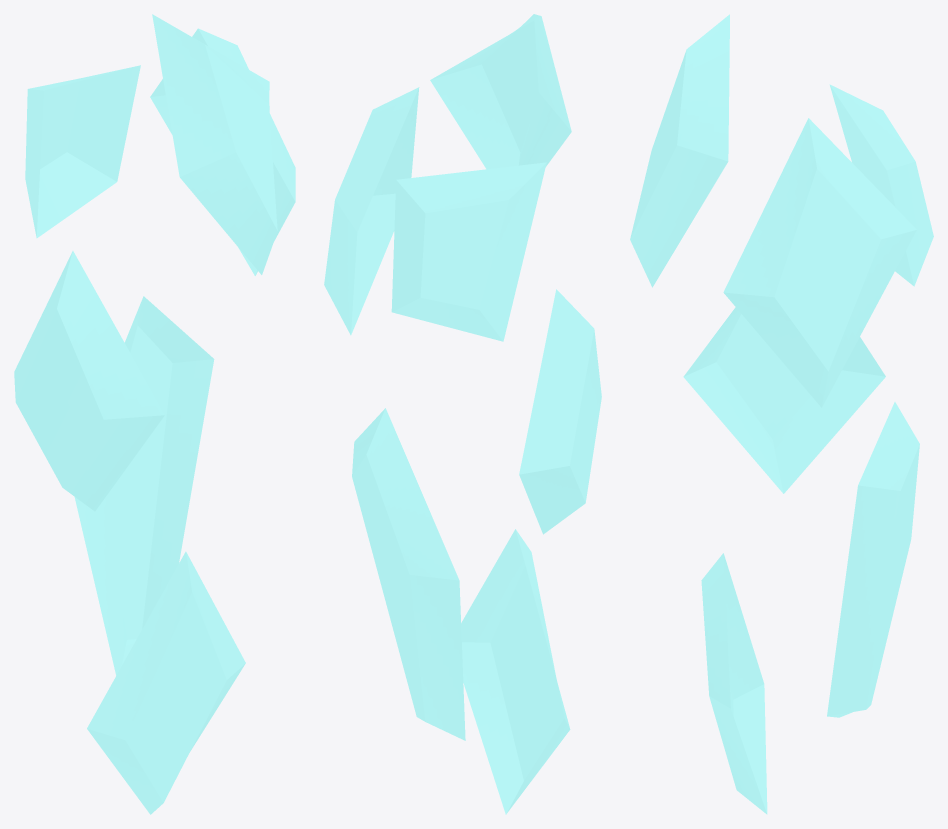
The model's file is FloatingCylinder_1_test.fbx.
3 views of the same model, side by side, from view 1: azimuth 30°, elevation 25°; view 2: azimuth 150°, elevation 25°; view 3: azimuth 270°, elevation 25° (orthographic). The views are drawn at different scales.
Visible parts, largest first — view 1: Plane.006, Plane.001, Plane.005, Plane.003, Plane.004, Plane.002; view 2: Plane.004, Plane.006, Plane.005, Plane.003, Plane.001, Plane.002; view 3: Plane.002, Plane.001, Plane.006, Plane.003, Plane.005, Plane.004.
Boxes of the visible parts, bbox=[...] form: Plane.006: bbox=[74, 296, 214, 675]; Plane.001: bbox=[14, 251, 164, 511]; Plane.005: bbox=[87, 551, 245, 814]; Plane.003: bbox=[152, 14, 277, 274]; Plane.004: bbox=[25, 65, 140, 238]; Plane.002: bbox=[150, 28, 295, 275]; Plane.004: bbox=[391, 162, 546, 341]; Plane.006: bbox=[352, 408, 465, 740]; Plane.005: bbox=[461, 529, 570, 814]; Plane.003: bbox=[430, 14, 571, 169]; Plane.001: bbox=[519, 289, 601, 534]; Plane.002: bbox=[324, 87, 419, 335]; Plane.002: bbox=[723, 118, 916, 407]; Plane.001: bbox=[683, 307, 885, 493]; Plane.006: bbox=[827, 402, 919, 717]; Plane.003: bbox=[630, 14, 729, 287]; Plane.005: bbox=[701, 553, 767, 814]; Plane.004: bbox=[829, 84, 933, 286].
Size of the model in its own units: 453 by 1375 by 478.
